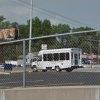Bus: (33, 47, 86, 72)
